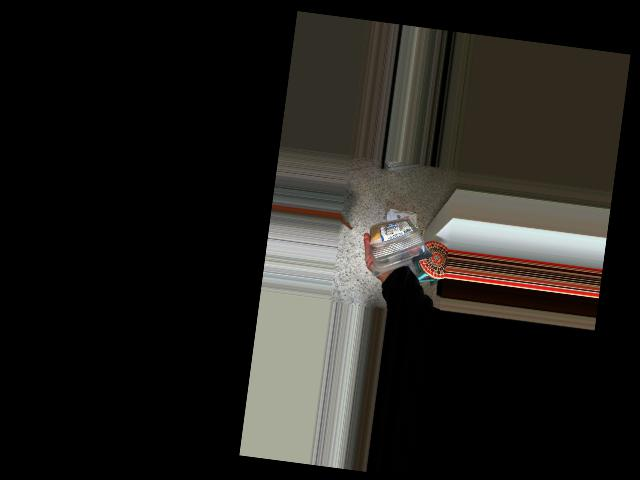cheese: (365, 201, 441, 283)
